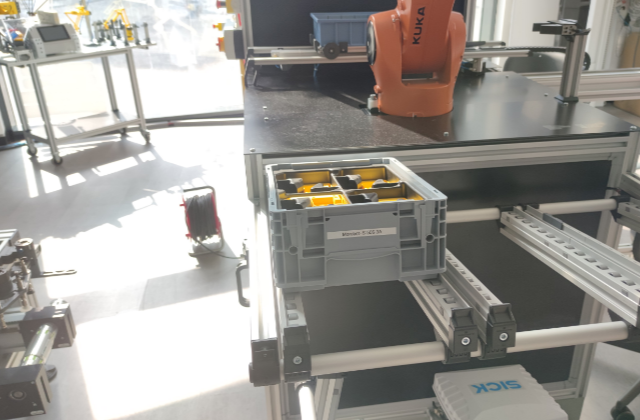Box: (261, 155, 448, 295)
